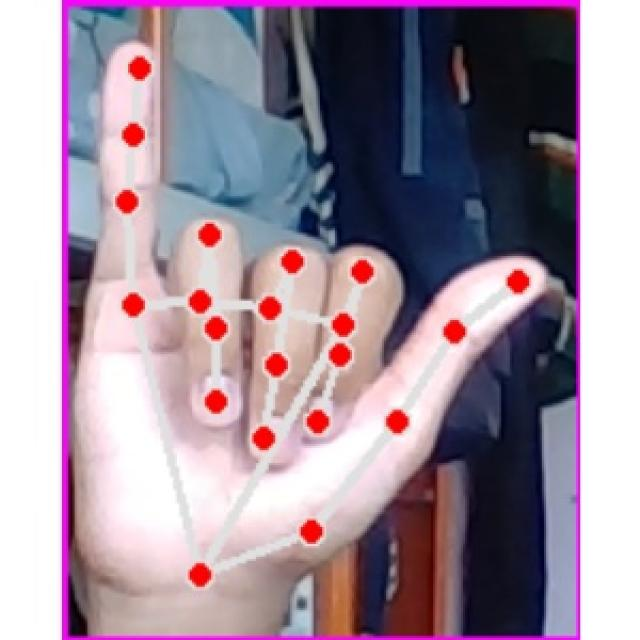Y: (78, 33, 555, 584)
